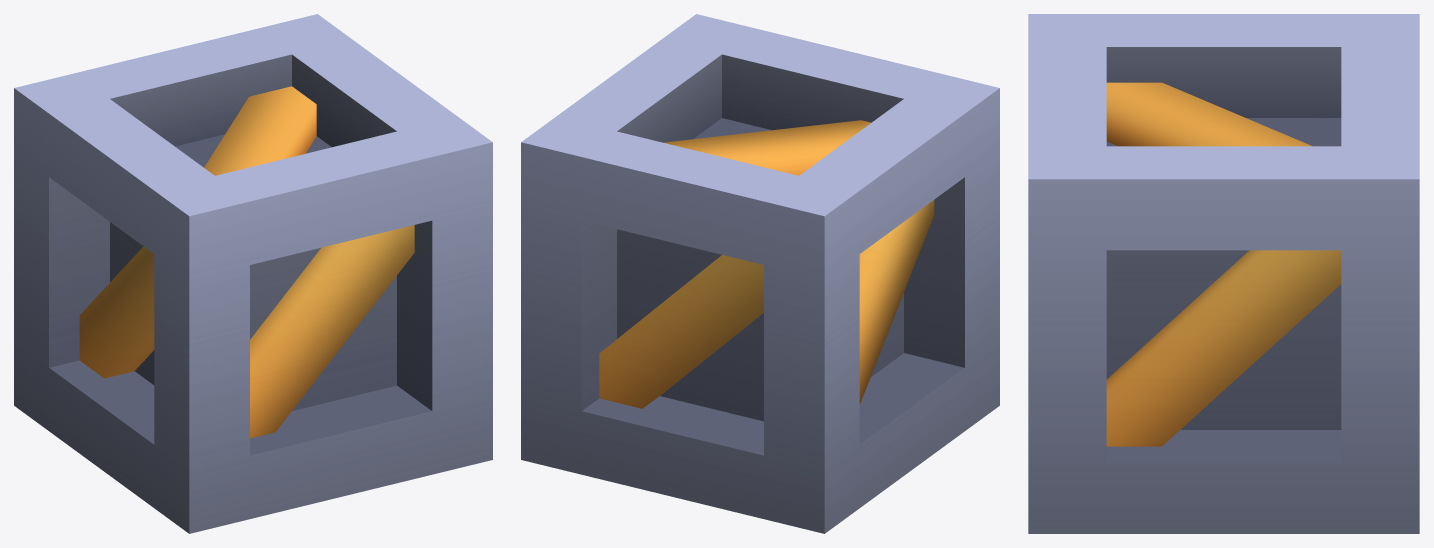
Rendered from crate.fbx.
3 renders of one model, left to right at view 1: azimuth 30°, elevation 25°; view 2: azimuth 150°, elevation 25°; view 3: azimuth 270°, elevation 25°, orthographic. The views are drawn at different scales.
Visible parts, largest first — view 1: crate; view 2: crate; view 3: crate.
Part boxes in pixels (left/top/right/bottom): crate: left=14, top=14, right=492, bottom=533; crate: left=521, top=14, right=999, bottom=533; crate: left=1028, top=14, right=1419, bottom=533.
Bounding box in the file's own units: 50 × 50 × 50.
